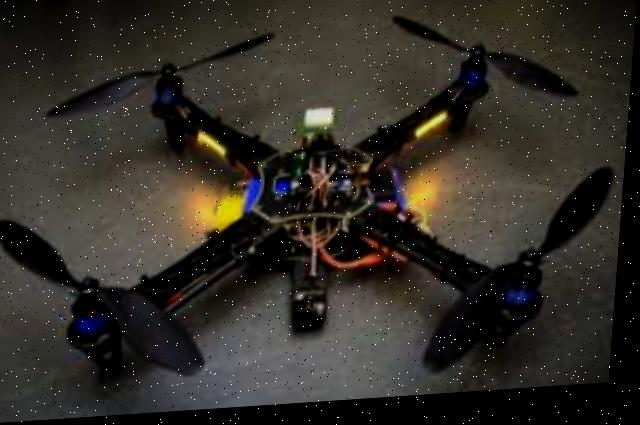drone: (7, 16, 623, 409)
